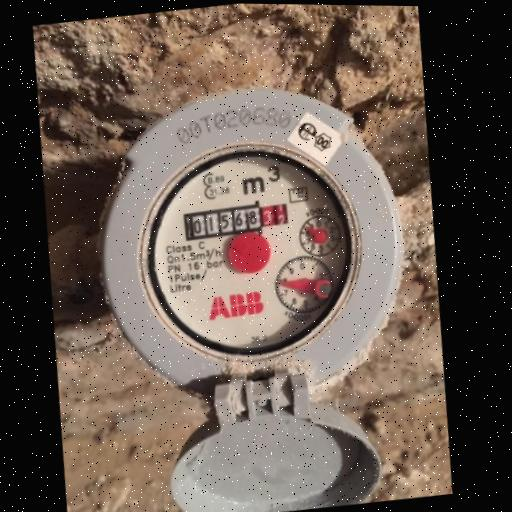0: (190, 215, 206, 236)
1: (275, 204, 289, 225), (206, 214, 219, 234)
3: (259, 205, 277, 227)
5: (217, 211, 233, 232)
6: (232, 209, 246, 231)
8: (245, 208, 260, 229)
border_water_meter_number: (180, 194, 292, 245)
